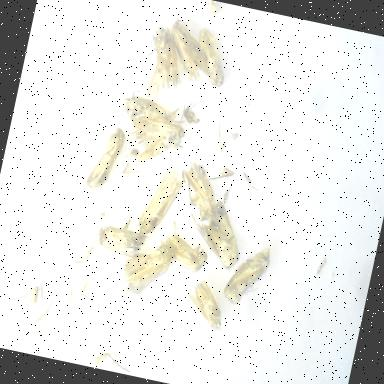abw: (184, 193, 252, 275), (132, 153, 192, 245), (133, 20, 195, 106), (110, 80, 182, 148), (82, 211, 153, 279), (113, 233, 178, 307), (121, 107, 190, 175), (156, 10, 214, 88), (166, 152, 226, 227), (80, 119, 134, 202), (218, 236, 274, 312), (186, 21, 238, 92), (178, 272, 234, 335), (155, 226, 216, 280)
